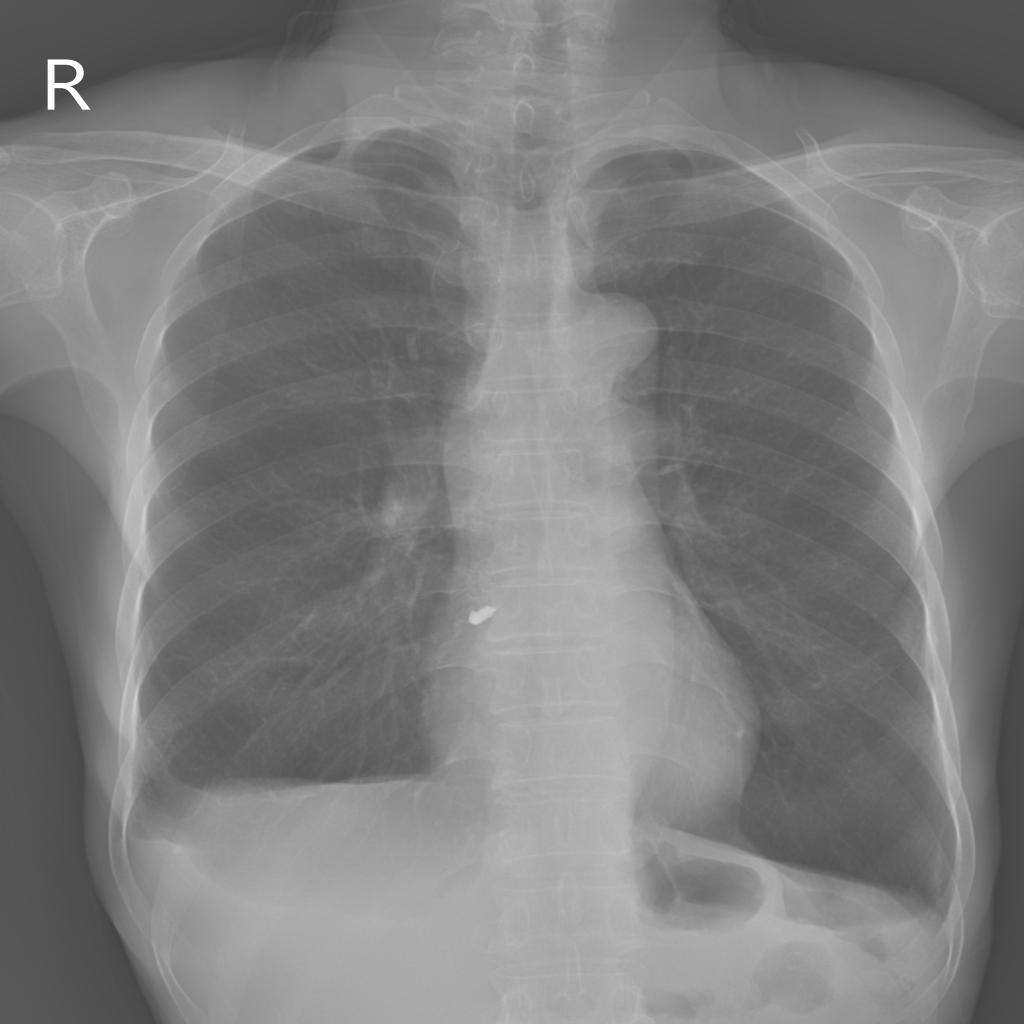Nodule: (276, 192, 314, 219)
